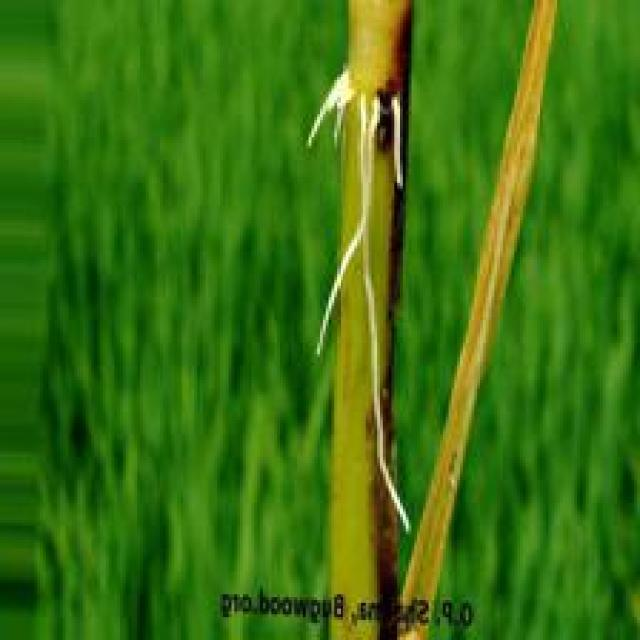Unhealthy: (405, 0, 559, 579)
